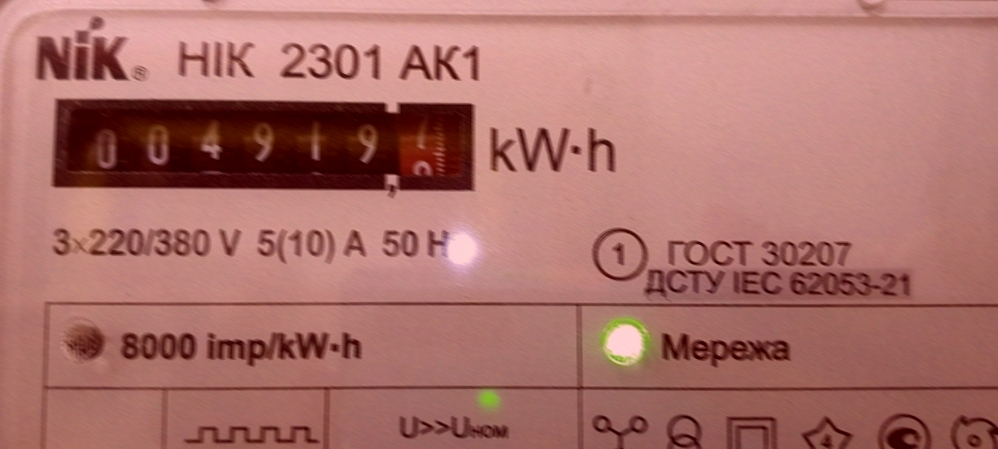0: (144, 121, 170, 167), (93, 126, 117, 170)
1: (306, 117, 322, 163)
4: (197, 117, 221, 160)
7: (407, 112, 431, 151)
9: (354, 120, 377, 167), (250, 120, 274, 164)
screen: (40, 85, 490, 209)
